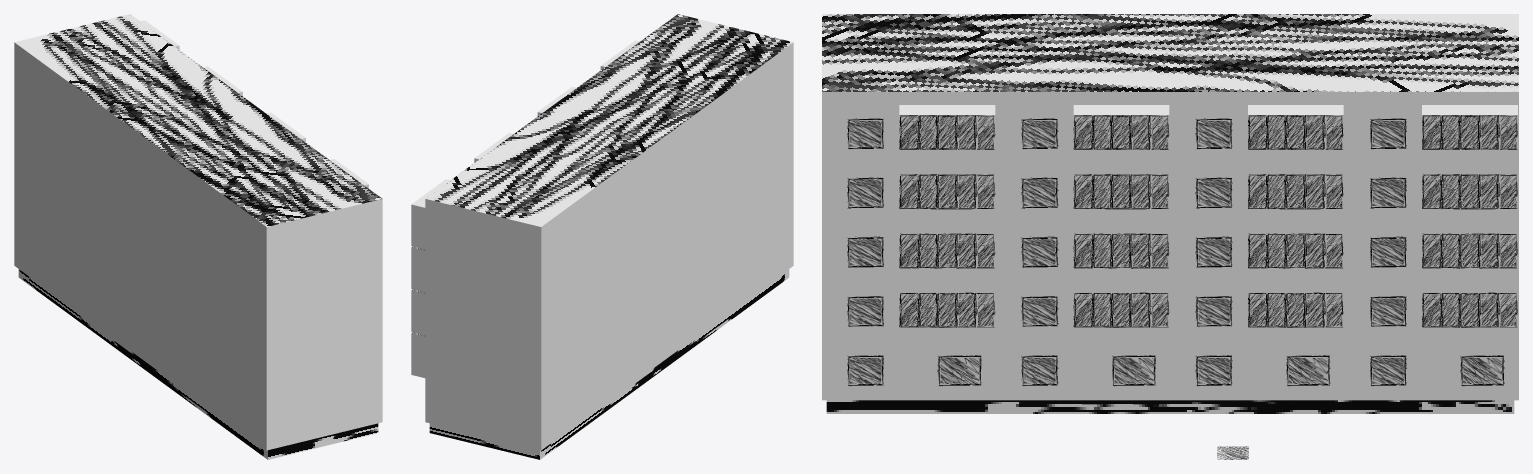
File: hrusch_test.glb
3 views of the same model, side by side, from view 1: azimuth 30°, elevation 25°; view 2: azimuth 150°, elevation 25°; view 3: azimuth 270°, elevation 25° (orthographic). The views are drawn at different scales.
Visible parts, largest first — view 1: Cube; view 2: Cube; view 3: Cube.
Boxes of the visible parts, x1,y1,x2,y2 form: Cube: [14, 14, 382, 459]; Cube: [411, 14, 793, 459]; Cube: [822, 14, 1518, 413].
Size of the model in its own units: 9.09 by 11.17 by 21.77.
Materials: 1 (1 with a texture image).
